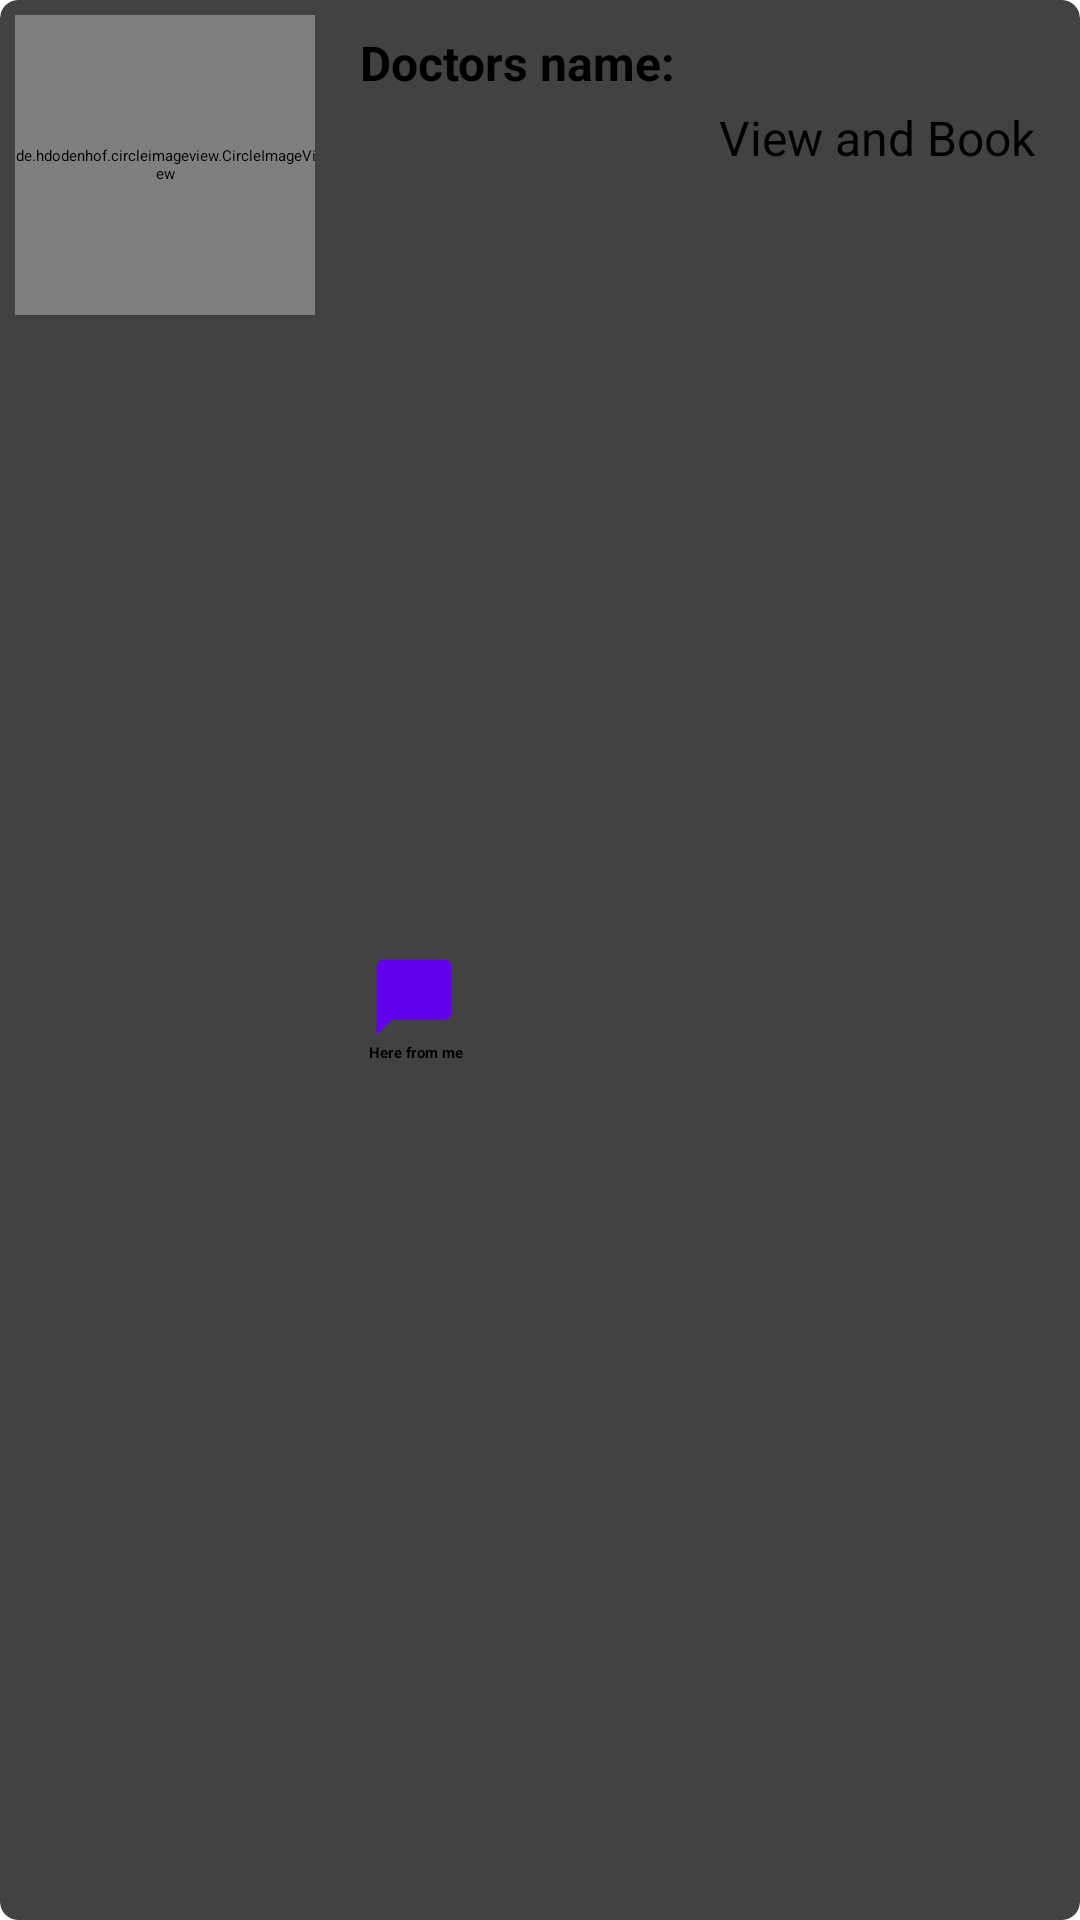

Where to tap for icons on this 1080px×1920px app screen, as (x,y):
chat bubble: (414,996)
